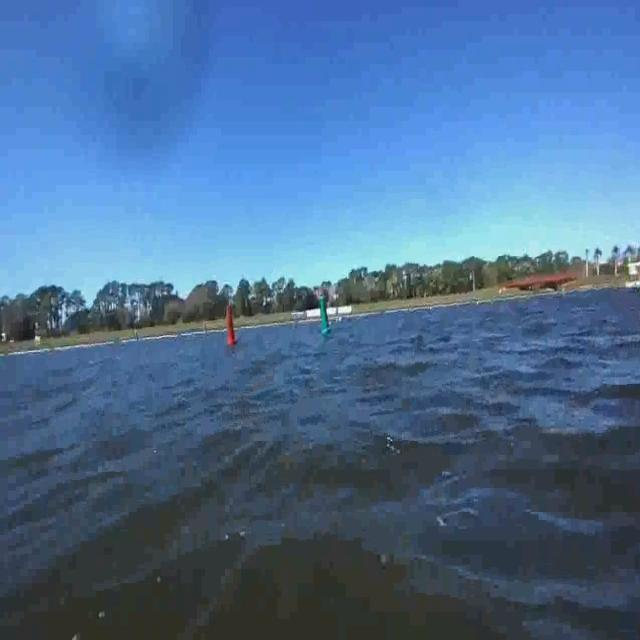green-column-buoy: (316, 288, 340, 339)
red-column-buoy: (219, 306, 237, 349)
